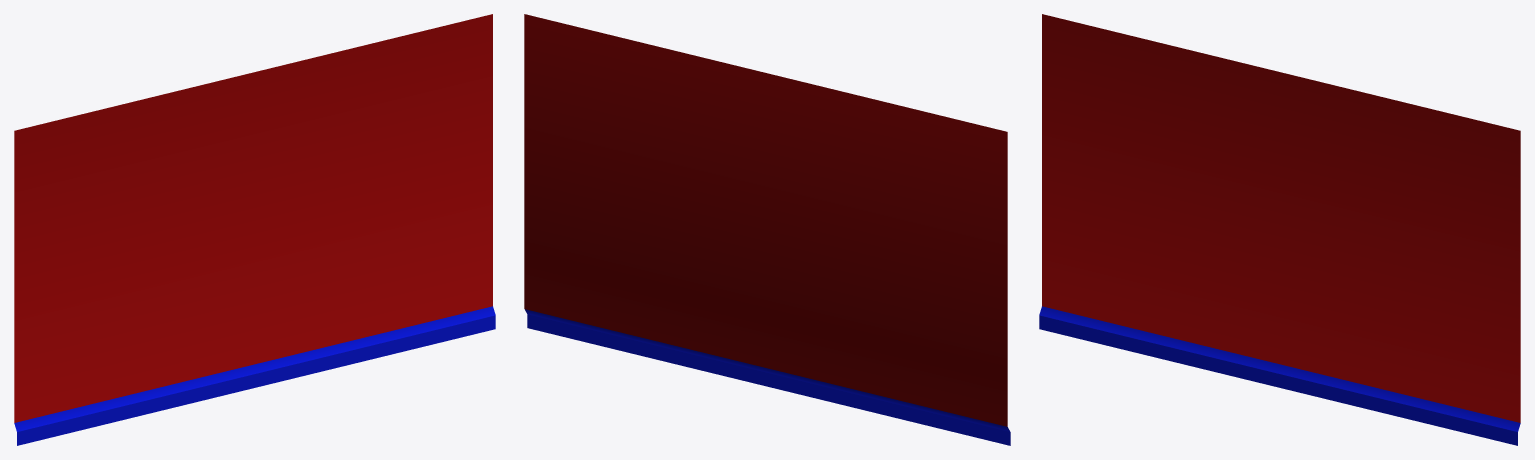
Rendered from wall_large.FBX.
3 views of the same model, side by side, from view 1: azimuth 30°, elevation 25°; view 2: azimuth 150°, elevation 25°; view 3: azimuth 330°, elevation 25° (orthographic).
Parts seen in each view (by area): view 1: wall_plain; view 2: wall_plain; view 3: wall_plain.
Boxes of the visible parts, x1=… form: wall_plain: x1=14, y1=14, x2=495, y2=445; wall_plain: x1=524, y1=14, x2=1010, y2=445; wall_plain: x1=1039, y1=14, x2=1520, y2=445.
Size of the model in its own units: 400 by 250 by 4.
